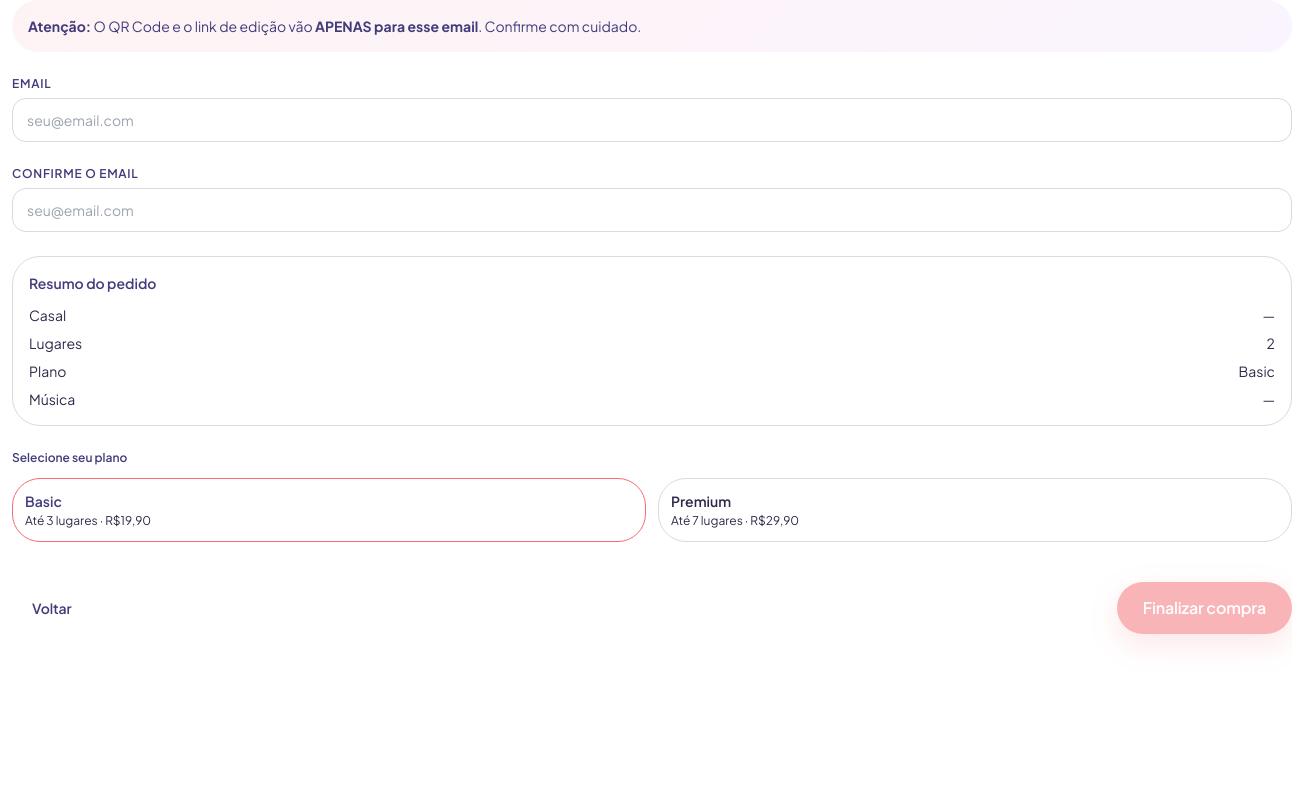
Test case: Step4Envio › should disable "Finalizar compra" when emails diverge
Type "test@example.com" into the 1st field with placeholder "seu@email.com" at (652, 120), box x1=12 y1=98 x2=1292 y2=142
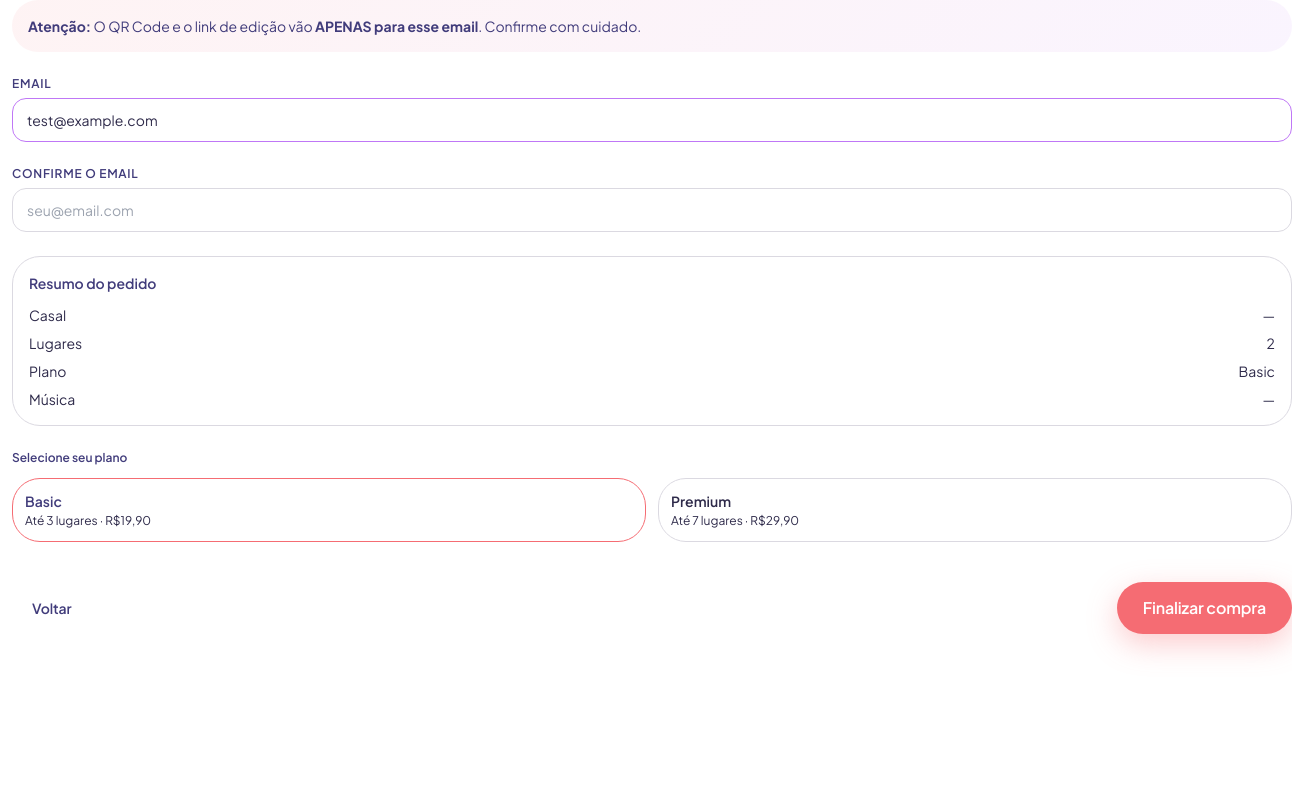
Type "other@example.com" into the field with placeholder "seu@email.com" at (652, 210), box x1=12 y1=188 x2=1292 y2=232
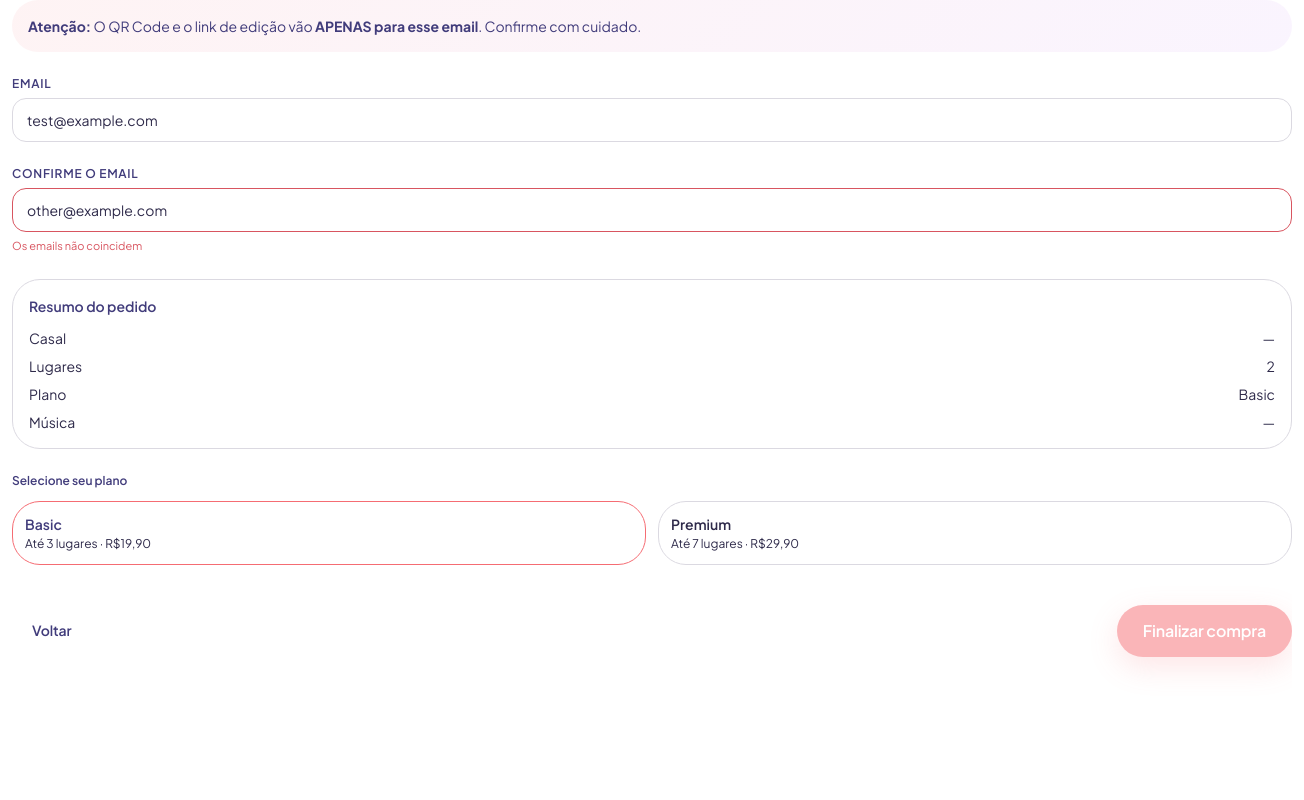
expect the button "Finalizar compra" is disabled: met, box x1=1117 y1=604 x2=1292 y2=656
